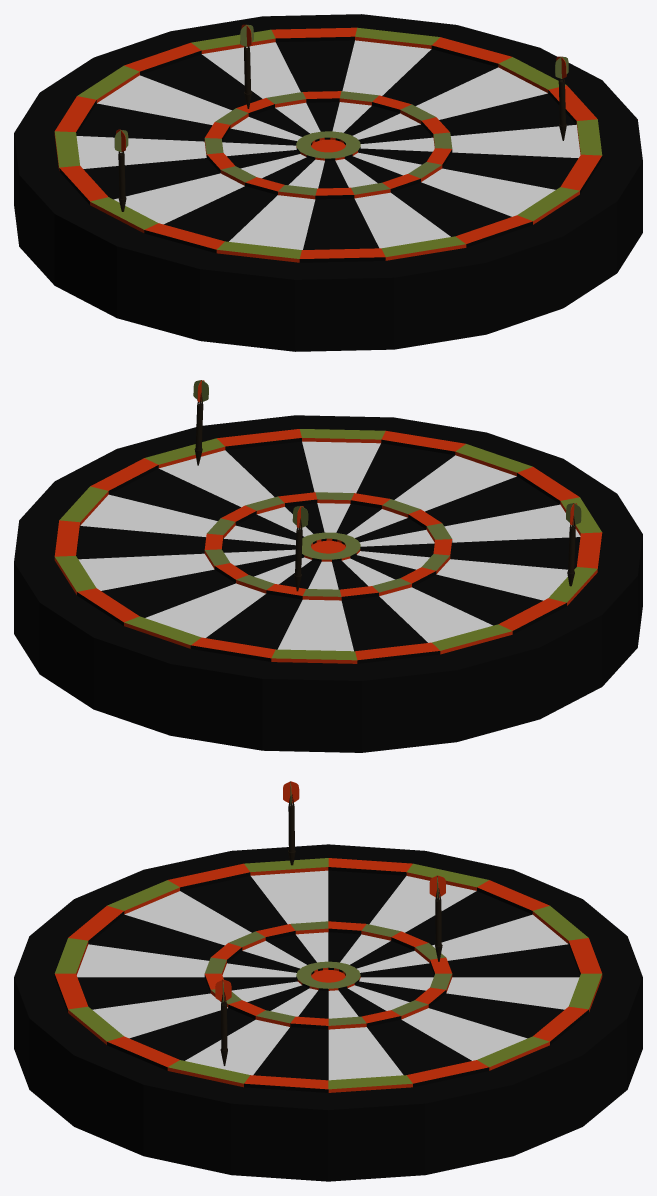
File: Dartboard.fbx
The picture shows the model from 3 angles, top to bottom: view 1: azimuth 30°, elevation 25°; view 2: azimuth 150°, elevation 25°; view 3: azimuth 270°, elevation 25°; orthographic projection.
Visible parts, largest first — view 1: Cylinder, Cylinder.003, Cylinder.002, Cylinder.001; view 2: Cylinder, Cylinder.001, Cylinder.002, Cylinder.003; view 3: Cylinder, Cylinder.001, Cylinder.003, Cylinder.002.
Boxes of the visible parts, bbox=[...] form: Cylinder: bbox=[14, 14, 642, 351]; Cylinder.003: bbox=[114, 129, 128, 211]; Cylinder.002: bbox=[555, 56, 568, 140]; Cylinder.001: bbox=[240, 24, 253, 108]; Cylinder: bbox=[14, 415, 642, 752]; Cylinder.001: bbox=[292, 506, 308, 591]; Cylinder.002: bbox=[193, 380, 208, 465]; Cylinder.003: bbox=[566, 503, 581, 586]; Cylinder: bbox=[14, 844, 642, 1181]; Cylinder.001: bbox=[429, 875, 445, 961]; Cylinder.003: bbox=[283, 781, 299, 865]; Cylinder.002: bbox=[215, 979, 231, 1065].
Bounding box in the file's own units: 115 × 32.4 × 115.
Materials: 4 (4 with a texture image).
